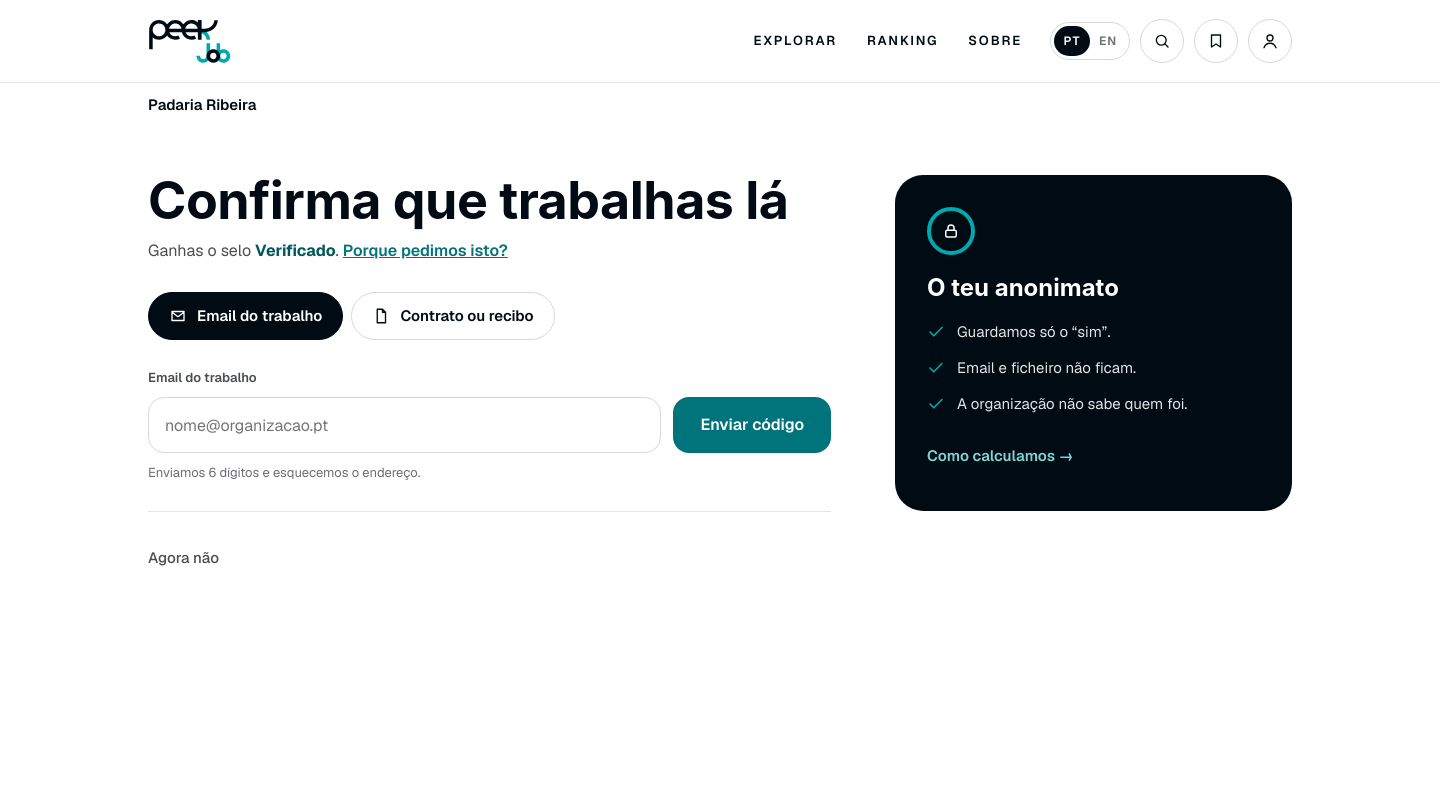
it: Avaliar · verificar (desktop) › email inválido: explica; válido: passa ao código com 6 dígitos
Type "ana" into the field labelled "Email do trabalho" at (405, 425), box [148,397,661,453]
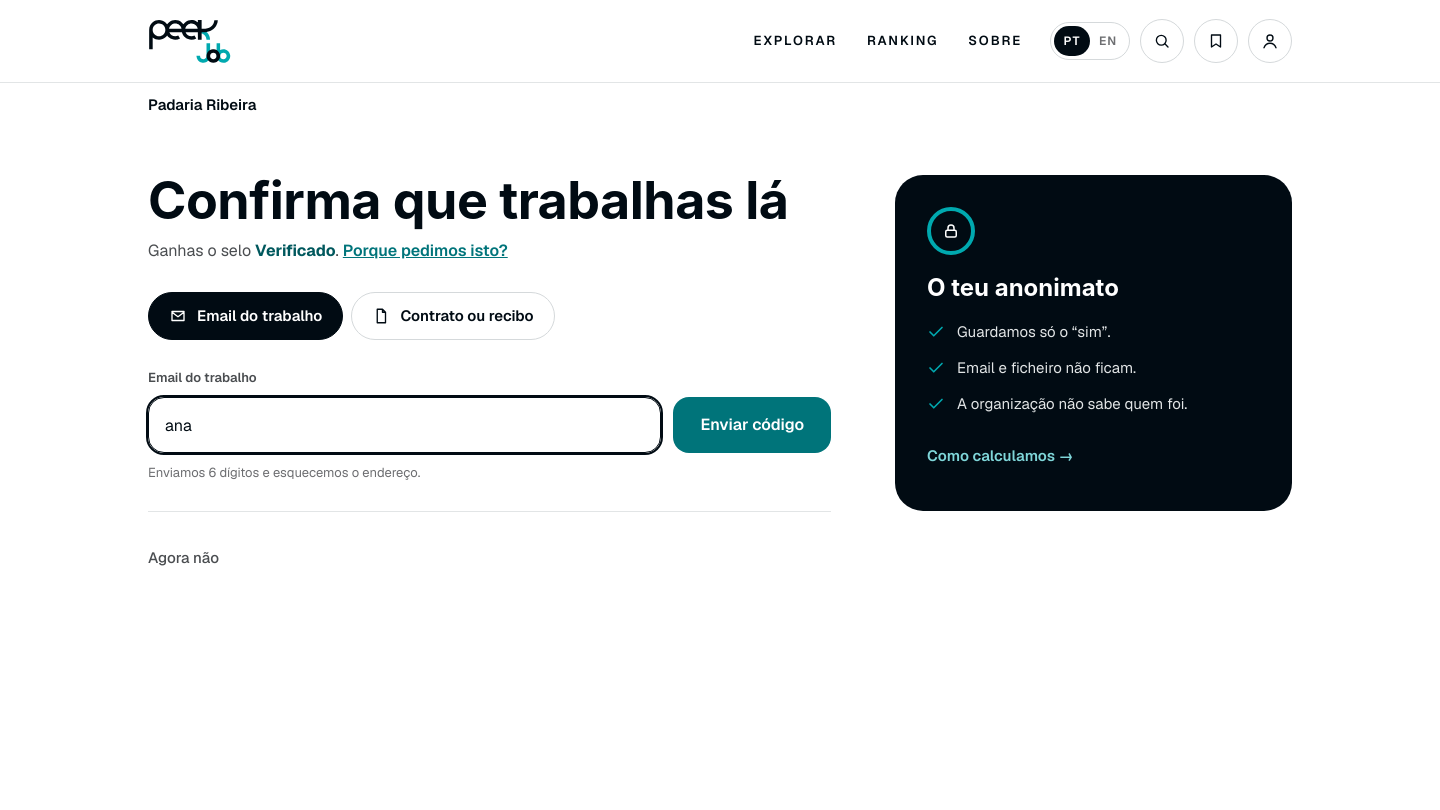
Press Enter
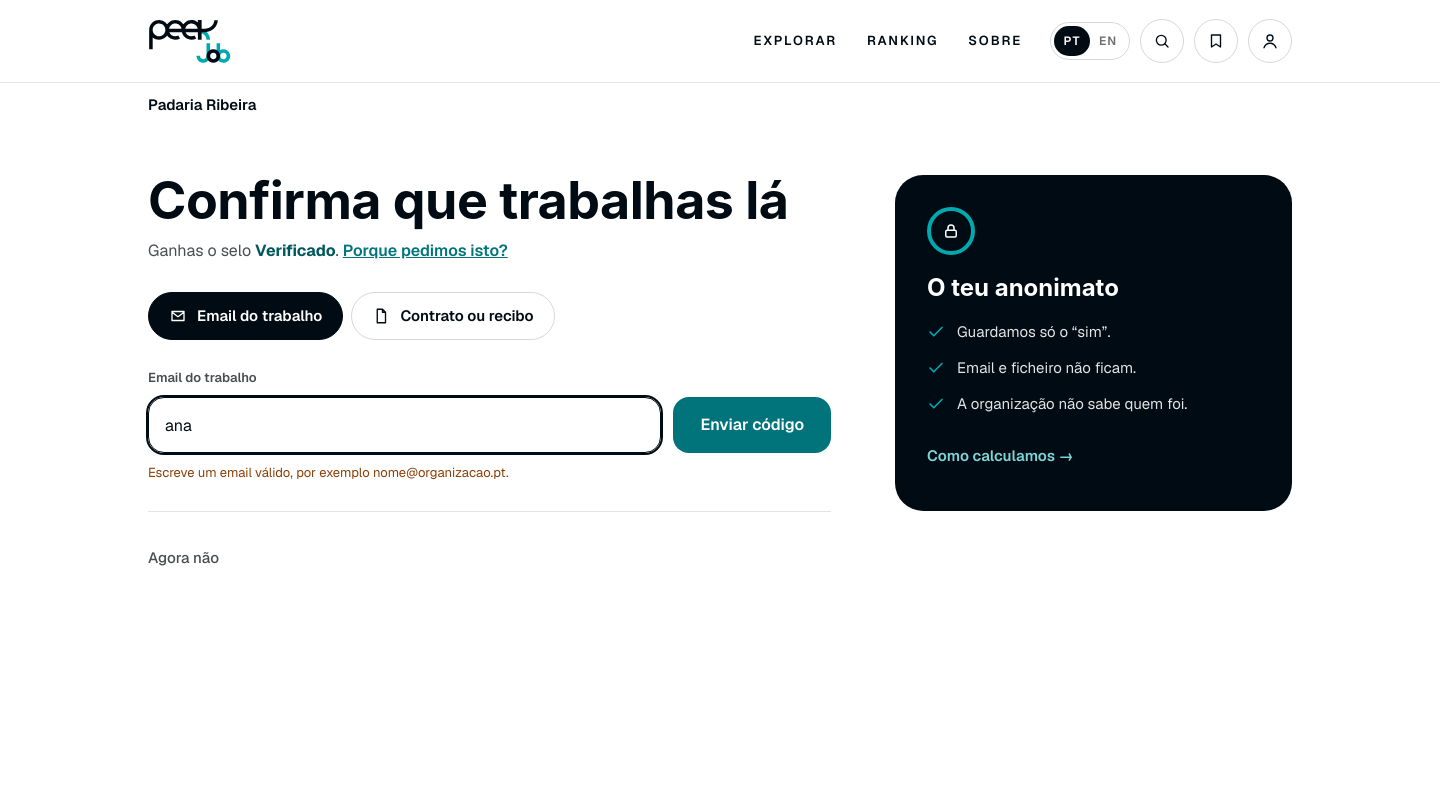
Expected: the message shows "Escreve um email válido", [148,464,509,481]
Replace the text in the field labelled "Email do trabalho" with "ana@padaria.pt" at (405, 425), box [148,397,661,453]
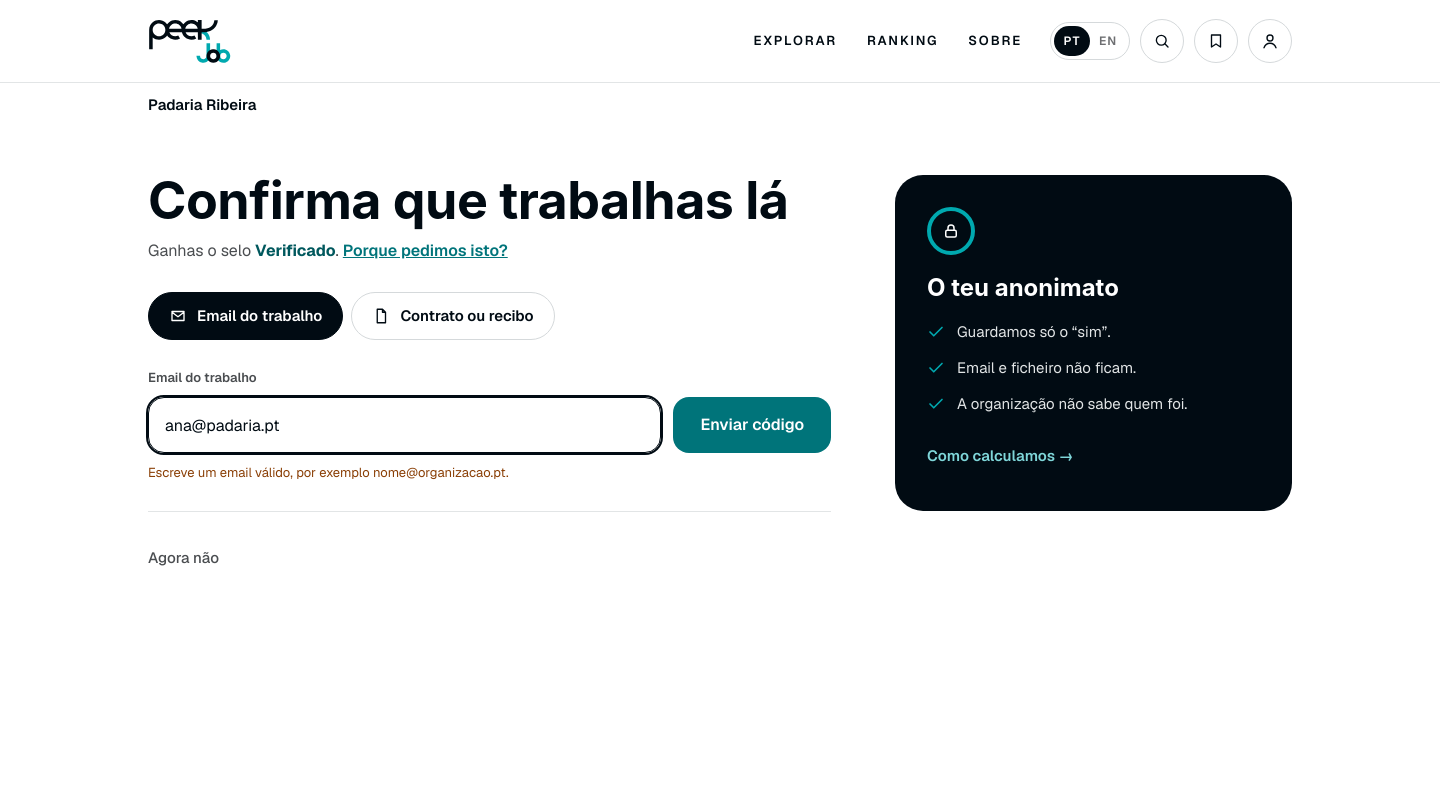
Press Enter
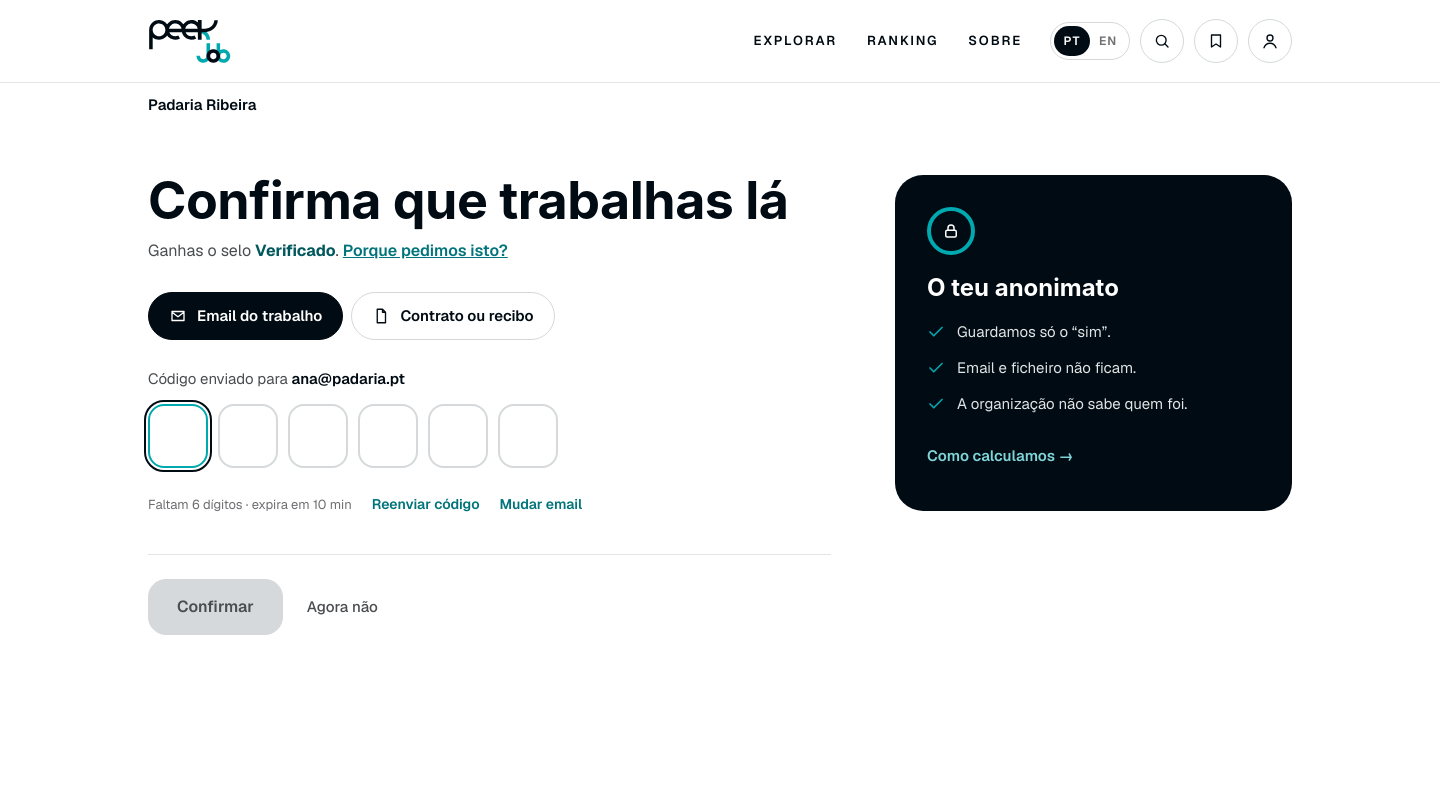
Expected: the text "ana@padaria.pt" is shown, [292,369,405,388]
Expected: the number of fields named "Dígito 1 de 6" is 6, [148,404,208,468]; [218,404,278,468]; [288,404,348,468]; [358,404,418,468]; [428,404,488,468]; [498,404,558,468]
Expected: the text "Faltam 6 dígitos · expira em 10 min" is shown, [148,494,352,514]
